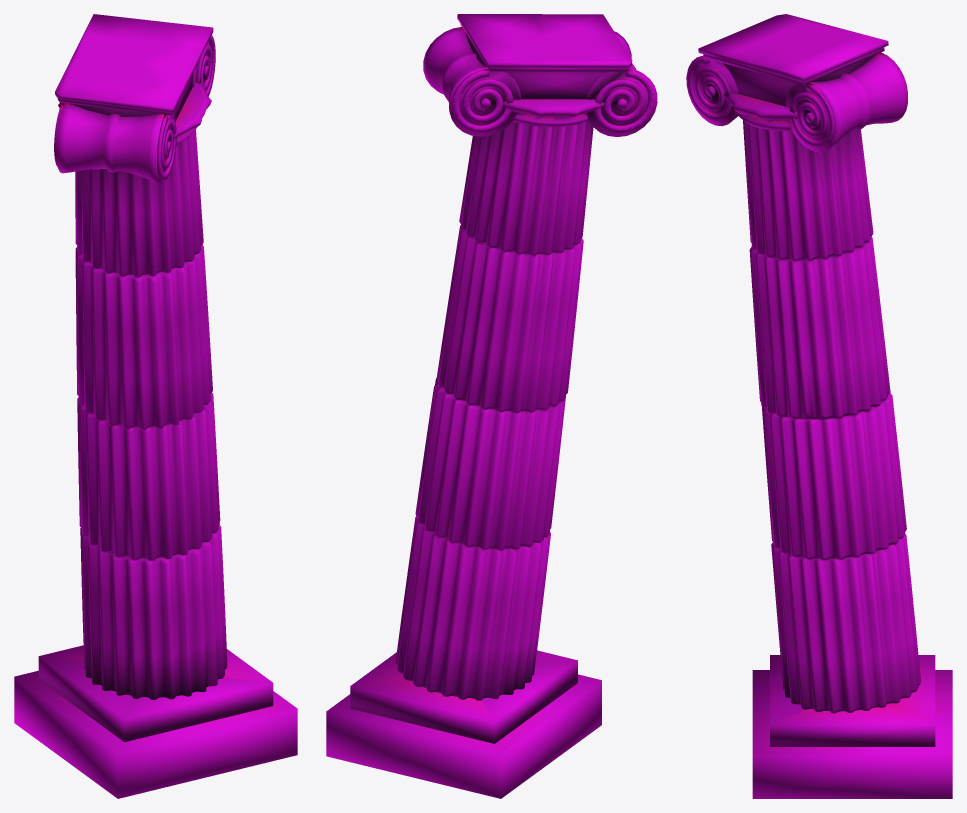
File: isle_col.glb
3 renders of one model, left to right at view 1: azimuth 30°, elevation 25°; view 2: azimuth 150°, elevation 25°; view 3: azimuth 270°, elevation 25°, orthographic. The views are drawn at different scales.
Visible parts, largest first — view 1: marble; view 2: marble; view 3: marble.
Boxes of the visible parts, x1,y1,x2,y2 form: marble: (14, 14, 297, 798); marble: (326, 14, 657, 798); marble: (686, 14, 952, 798).
Size of the model in its own units: 1.08 by 3.12 by 1.08.
